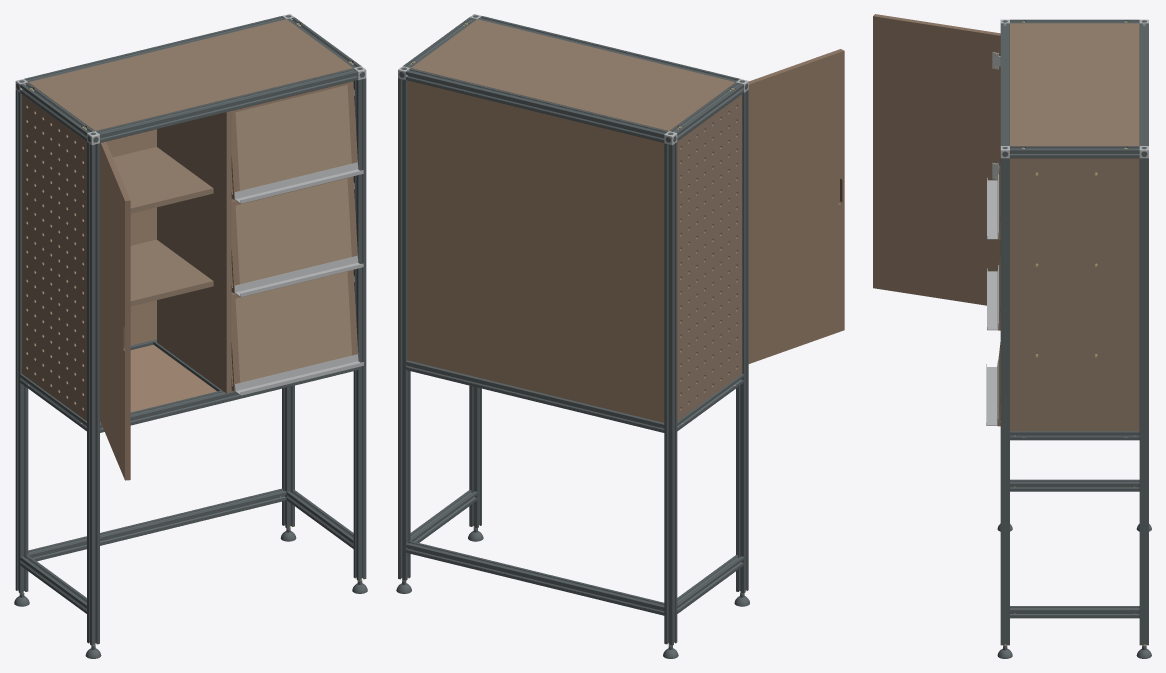
File: cabinet-110.glb
3 renders of one model, left to right at view 1: azimuth 30°, elevation 25°; view 2: azimuth 150°, elevation 25°; view 3: azimuth 270°, elevation 25°, orthographic. The views are drawn at different scales.
Parts seen in each view (by area): view 1: Left-pegboard-18, Top-18, Center-18, Plywood-infill-6-1, Plywood-infill-6-2, Plywood-infill-6-3, Left-door-face-18, Post-4-23, Post-966-23, Post-4-470, Shelf-Left-2, Shelf-Left-1 (+21 smaller); view 2: Back-infill-8, Left-door-face-18, Left-pegboard-18, Top-18, Post-4-470, Post-966-470, Post-4-23, Beam-top-rear, Beam-lower-rear, Beam-body-rear, Post-966-23, Beam-top-front (+4 smaller); view 3: Right-wall-18, Left-door-face-18, Top-18, Post-966-23, Post-966-470, Beam-lower-side-4, Beam-lower-side-966, Beam-top-side-966, Beam-body-side-966, Beam-top-front, Beam-top-rear, Display-ledge-1 (+3 smaller).
Part boxes in pixels (x1,y1,x2,y2): Left-pegboard-18: [22, 94, 86, 420]; Top-18: [28, 19, 352, 130]; Center-18: [157, 111, 231, 393]; Plywood-infill-6-1: [235, 271, 351, 382]; Plywood-infill-6-2: [235, 178, 351, 284]; Plywood-infill-6-3: [235, 85, 351, 190]; Left-door-face-18: [100, 141, 130, 480]; Post-4-23: [87, 142, 99, 645]; Post-966-23: [353, 78, 366, 580]; Post-4-470: [15, 90, 28, 593]; Shelf-Left-2: [113, 147, 213, 213]; Shelf-Left-1: [130, 239, 213, 306]; Back-infill-8: [407, 80, 664, 422]; Left-door-face-18: [748, 49, 844, 363]; Left-pegboard-18: [677, 94, 742, 420]; Top-18: [411, 19, 735, 130]; Post-4-470: [664, 142, 677, 645]; Post-966-470: [398, 78, 410, 580]; Post-4-23: [736, 90, 748, 593]; Beam-top-rear: [406, 68, 668, 142]; Beam-lower-rear: [406, 541, 664, 615]; Beam-body-rear: [406, 360, 664, 432]; Post-966-23: [469, 385, 481, 528]; Beam-top-front: [478, 16, 739, 82]; Right-wall-18: [1010, 158, 1139, 431]; Left-door-face-18: [873, 14, 1000, 305]; Top-18: [1010, 23, 1139, 146]; Post-966-23: [1000, 158, 1009, 645]; Post-966-470: [1139, 158, 1148, 645]; Beam-lower-side-4: [1010, 479, 1139, 491]; Beam-lower-side-966: [1010, 606, 1139, 618]; Beam-top-side-966: [1010, 146, 1139, 158]; Beam-body-side-966: [1010, 431, 1139, 440]; Beam-top-front: [1000, 23, 1009, 145]; Beam-top-rear: [1139, 23, 1148, 145]; Display-ledge-1: [986, 361, 998, 425].
Bounding box in the file's own units: 1.11 × 1.8 × 0.8957.
